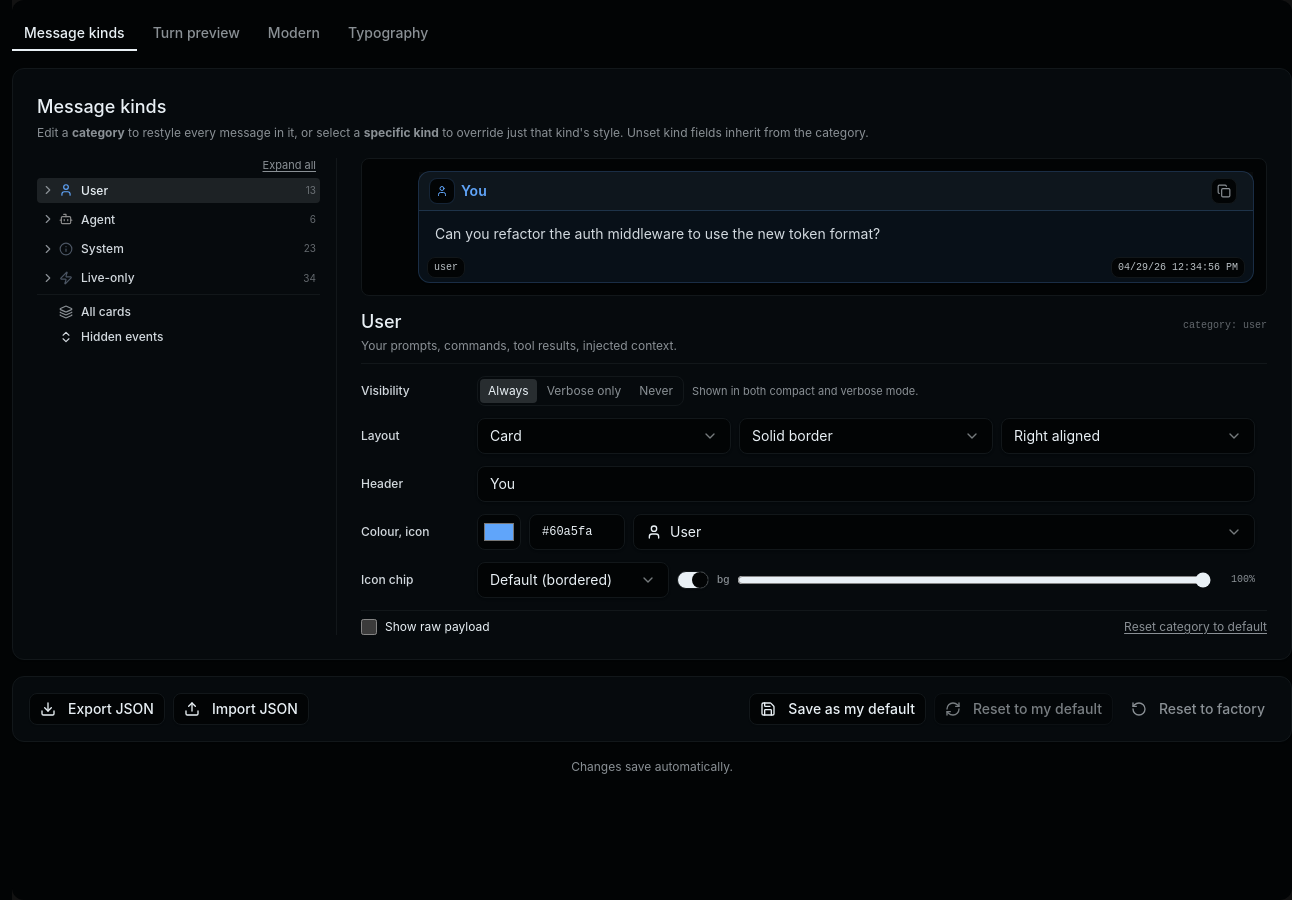
Test: AppearanceSettings saving › reports an edit as Saved once the write lands, with no toast
Type "#123456" into the colour field named "Accent colour picker".
click(499, 532); type("#123456")  # box [477, 514, 521, 550]
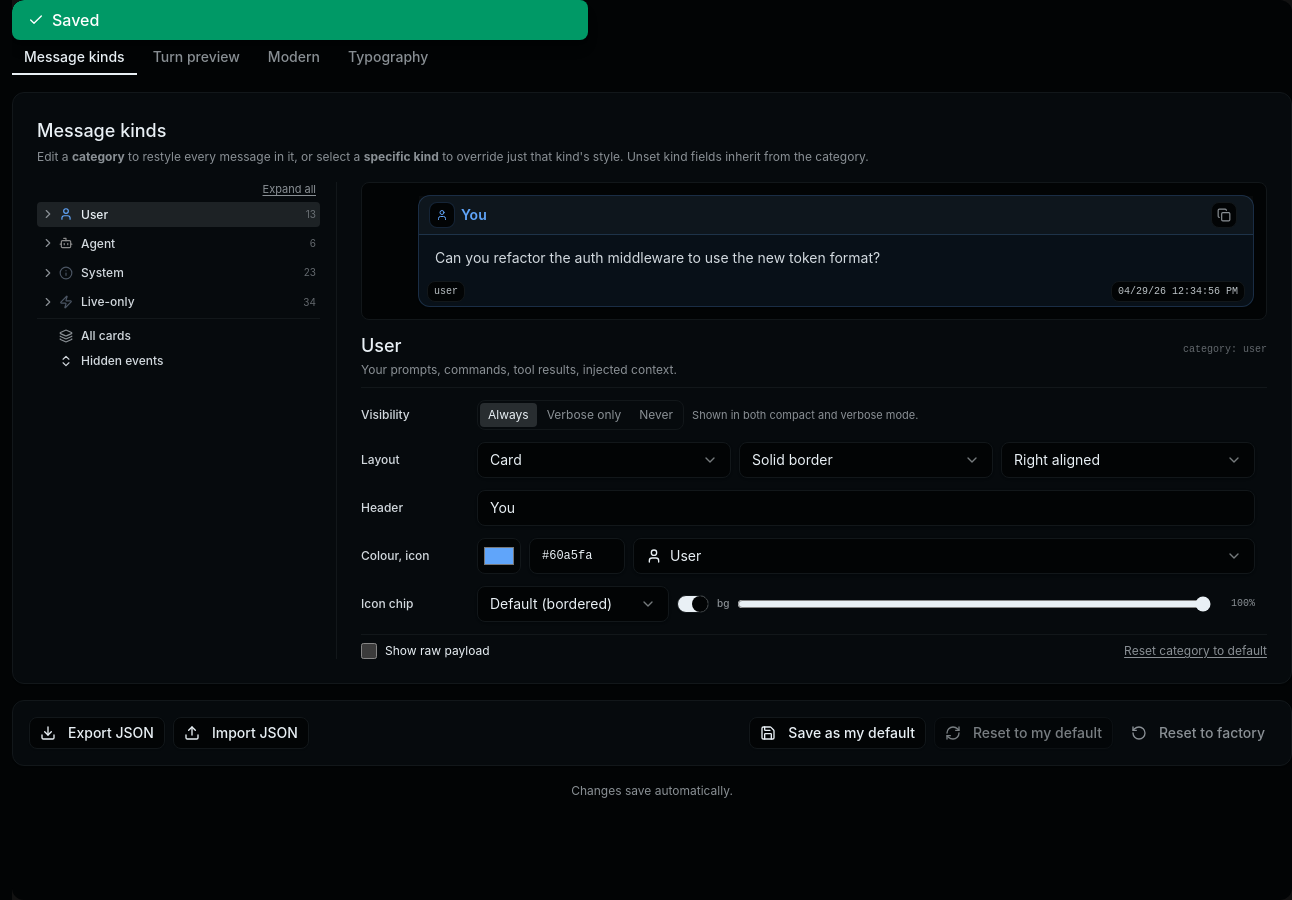
expect the message reads "Saved": met, box [52, 10, 99, 30]
